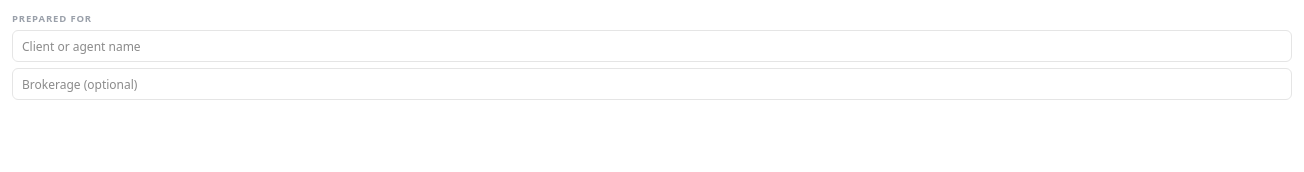
Test: a name the operator has used before › offers their own history on focus, before typing
Step 1. Focus the dropdown → [652, 46], box x1=12 y1=30 x2=1292 y2=62
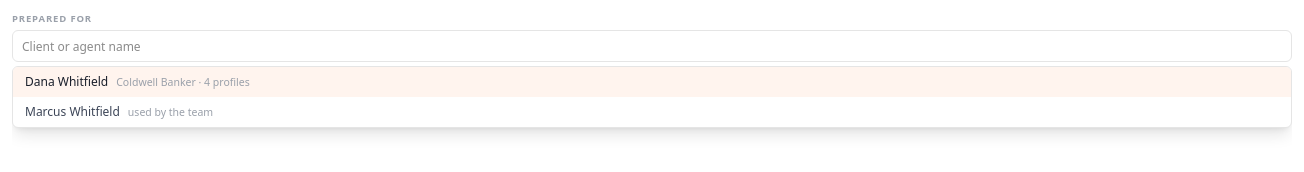
Expected: the number of options is 2, x1=13 y1=67 x2=1291 y2=97; x1=25 y1=103 x2=213 y2=120
Expected: the option "Dana WhitfieldColdwell Banker · 4 profiles" is shown, x1=13 y1=67 x2=1291 y2=97
